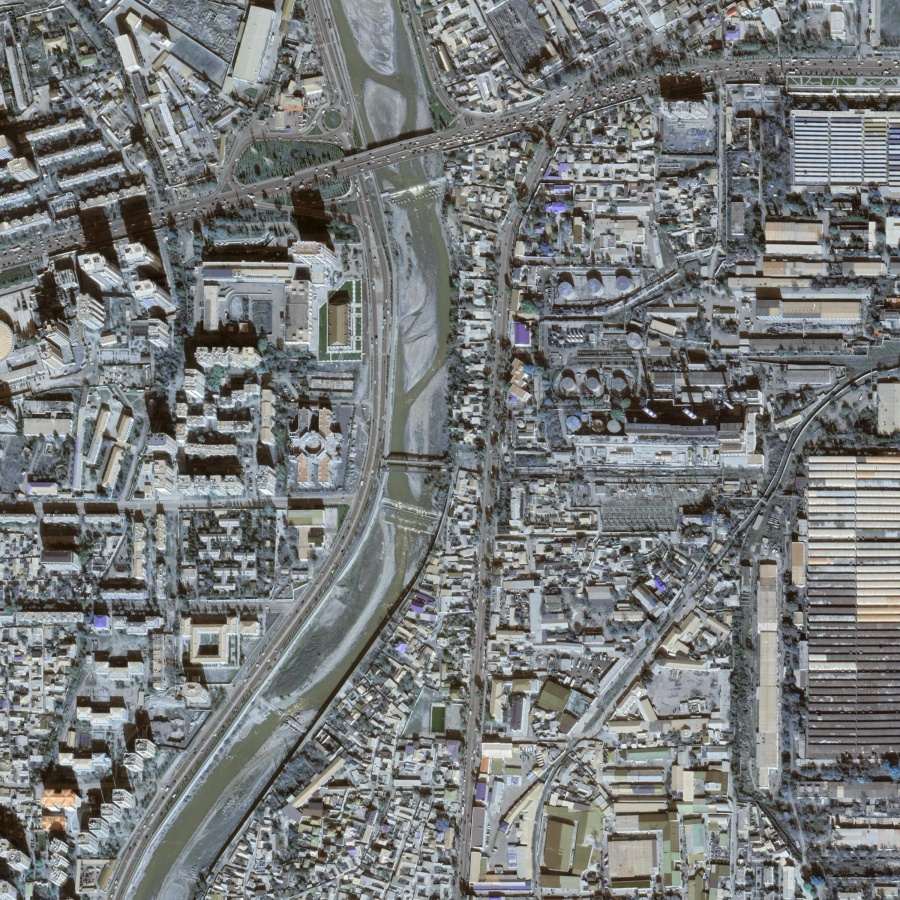PowerPlant: (548, 322, 769, 533)
